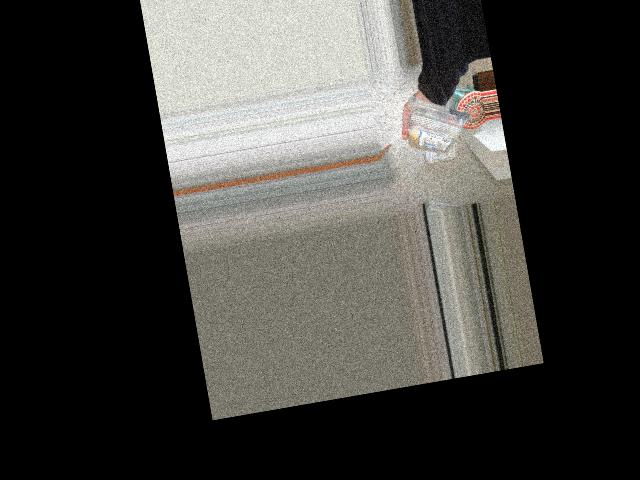cheese: (402, 86, 480, 170)
